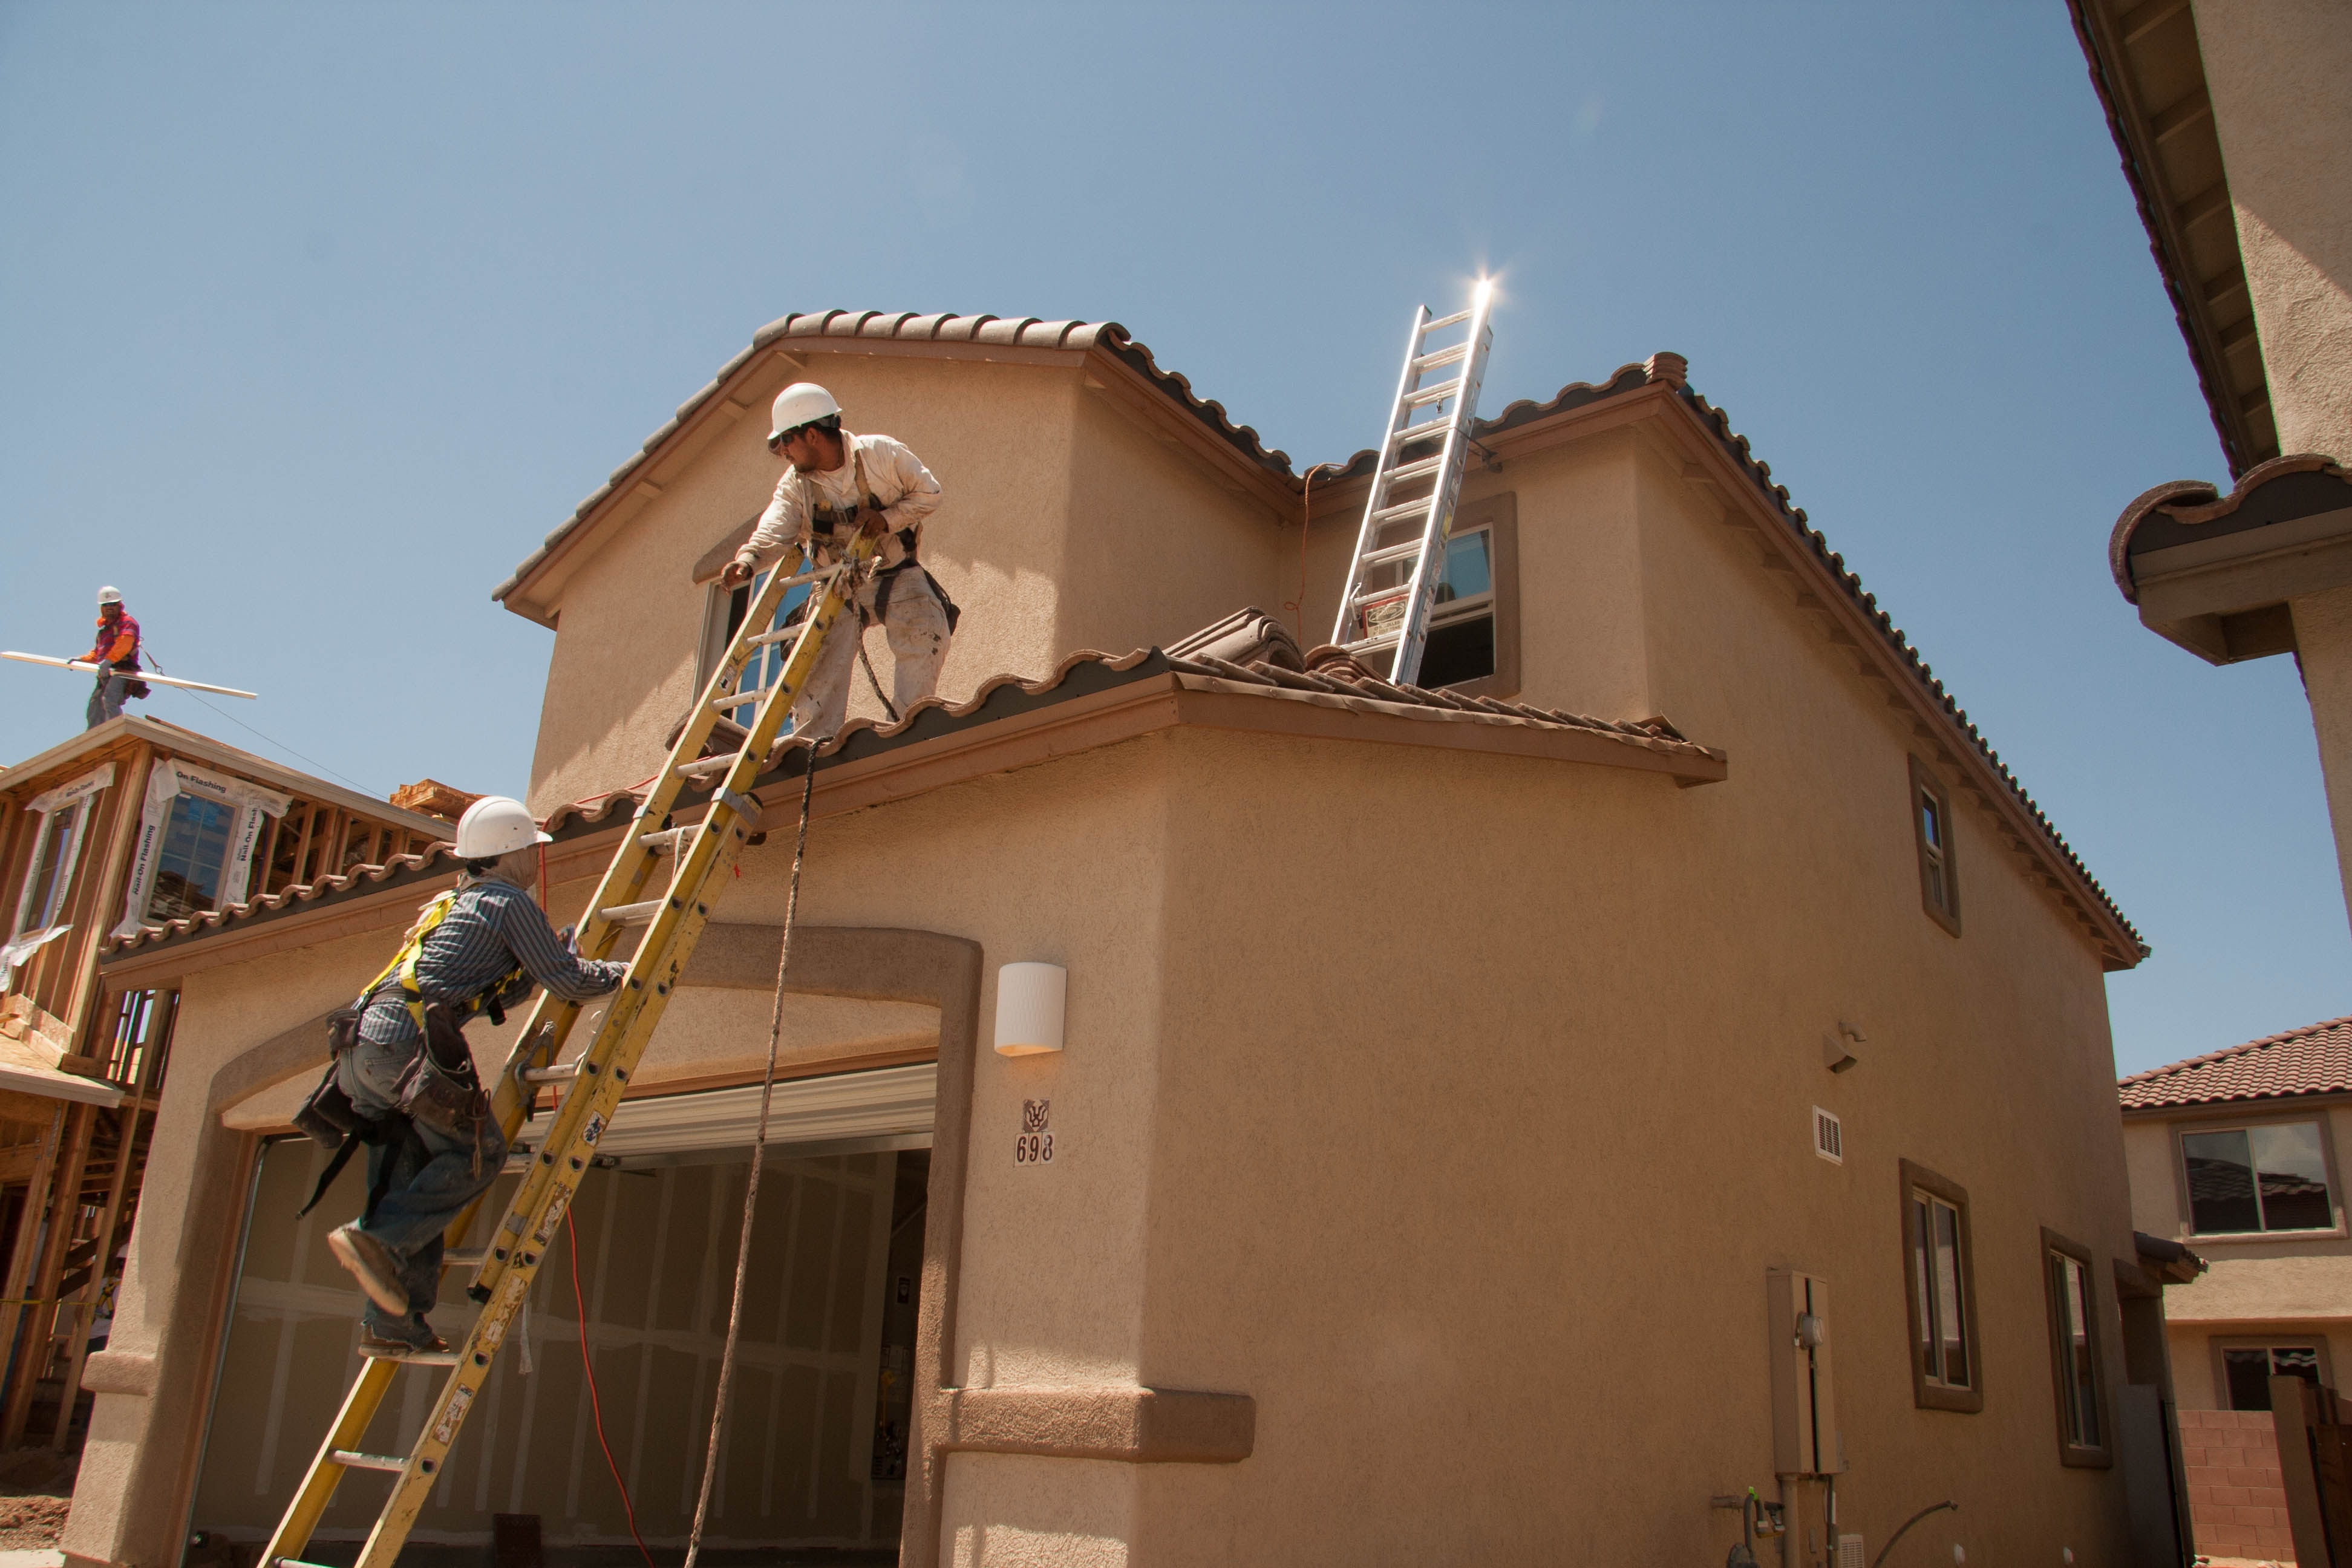white: (448, 794, 544, 887), (768, 381, 842, 471), (95, 584, 124, 619)
